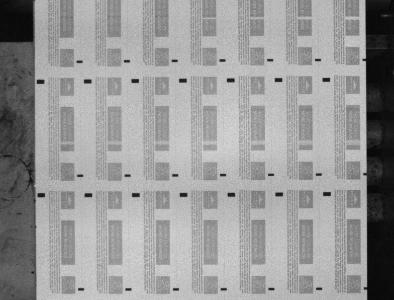backgroundclutter: (31, 271, 35, 274)
incorrect qblock: (363, 173, 368, 176), (364, 287, 368, 290), (363, 58, 367, 61)
qblock: (36, 79, 45, 84), (180, 192, 188, 197), (228, 192, 236, 197), (179, 78, 187, 83), (323, 77, 331, 82), (132, 193, 140, 197), (276, 192, 284, 196), (84, 193, 92, 197), (323, 192, 331, 196), (131, 79, 139, 83), (84, 79, 92, 83), (275, 78, 283, 82), (37, 193, 45, 197), (227, 78, 235, 82)
smallqblock: (220, 173, 227, 177), (267, 58, 274, 62), (78, 287, 84, 291), (124, 59, 130, 63), (125, 288, 132, 291), (76, 60, 83, 63), (316, 287, 323, 290), (77, 174, 84, 177), (124, 174, 131, 177), (268, 173, 275, 176), (315, 58, 322, 61), (172, 174, 179, 177), (173, 288, 180, 291), (269, 287, 275, 290), (173, 288, 179, 291), (221, 288, 227, 291), (316, 173, 322, 176), (172, 59, 178, 62), (220, 59, 226, 62)
